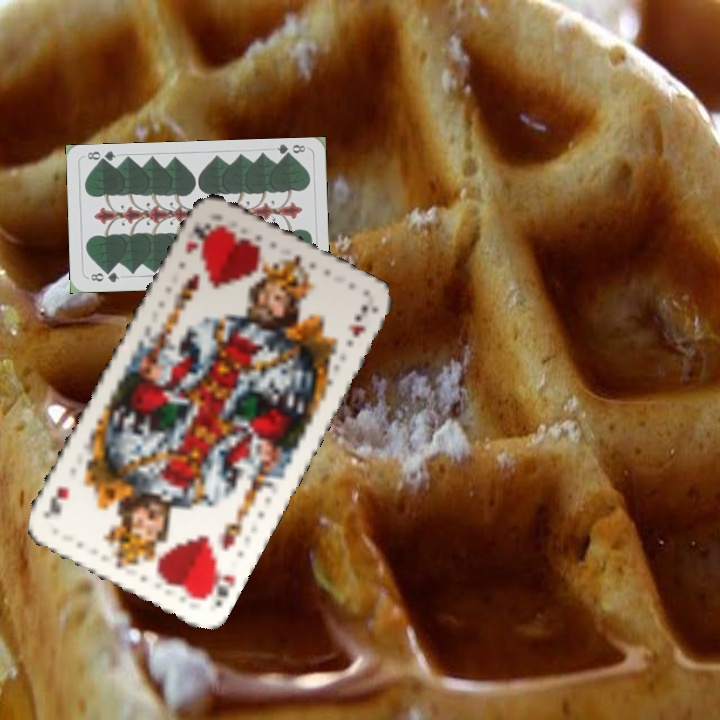G8: (273, 140, 308, 161), (86, 267, 122, 285)
HK: (197, 570, 238, 612), (181, 218, 219, 259)
